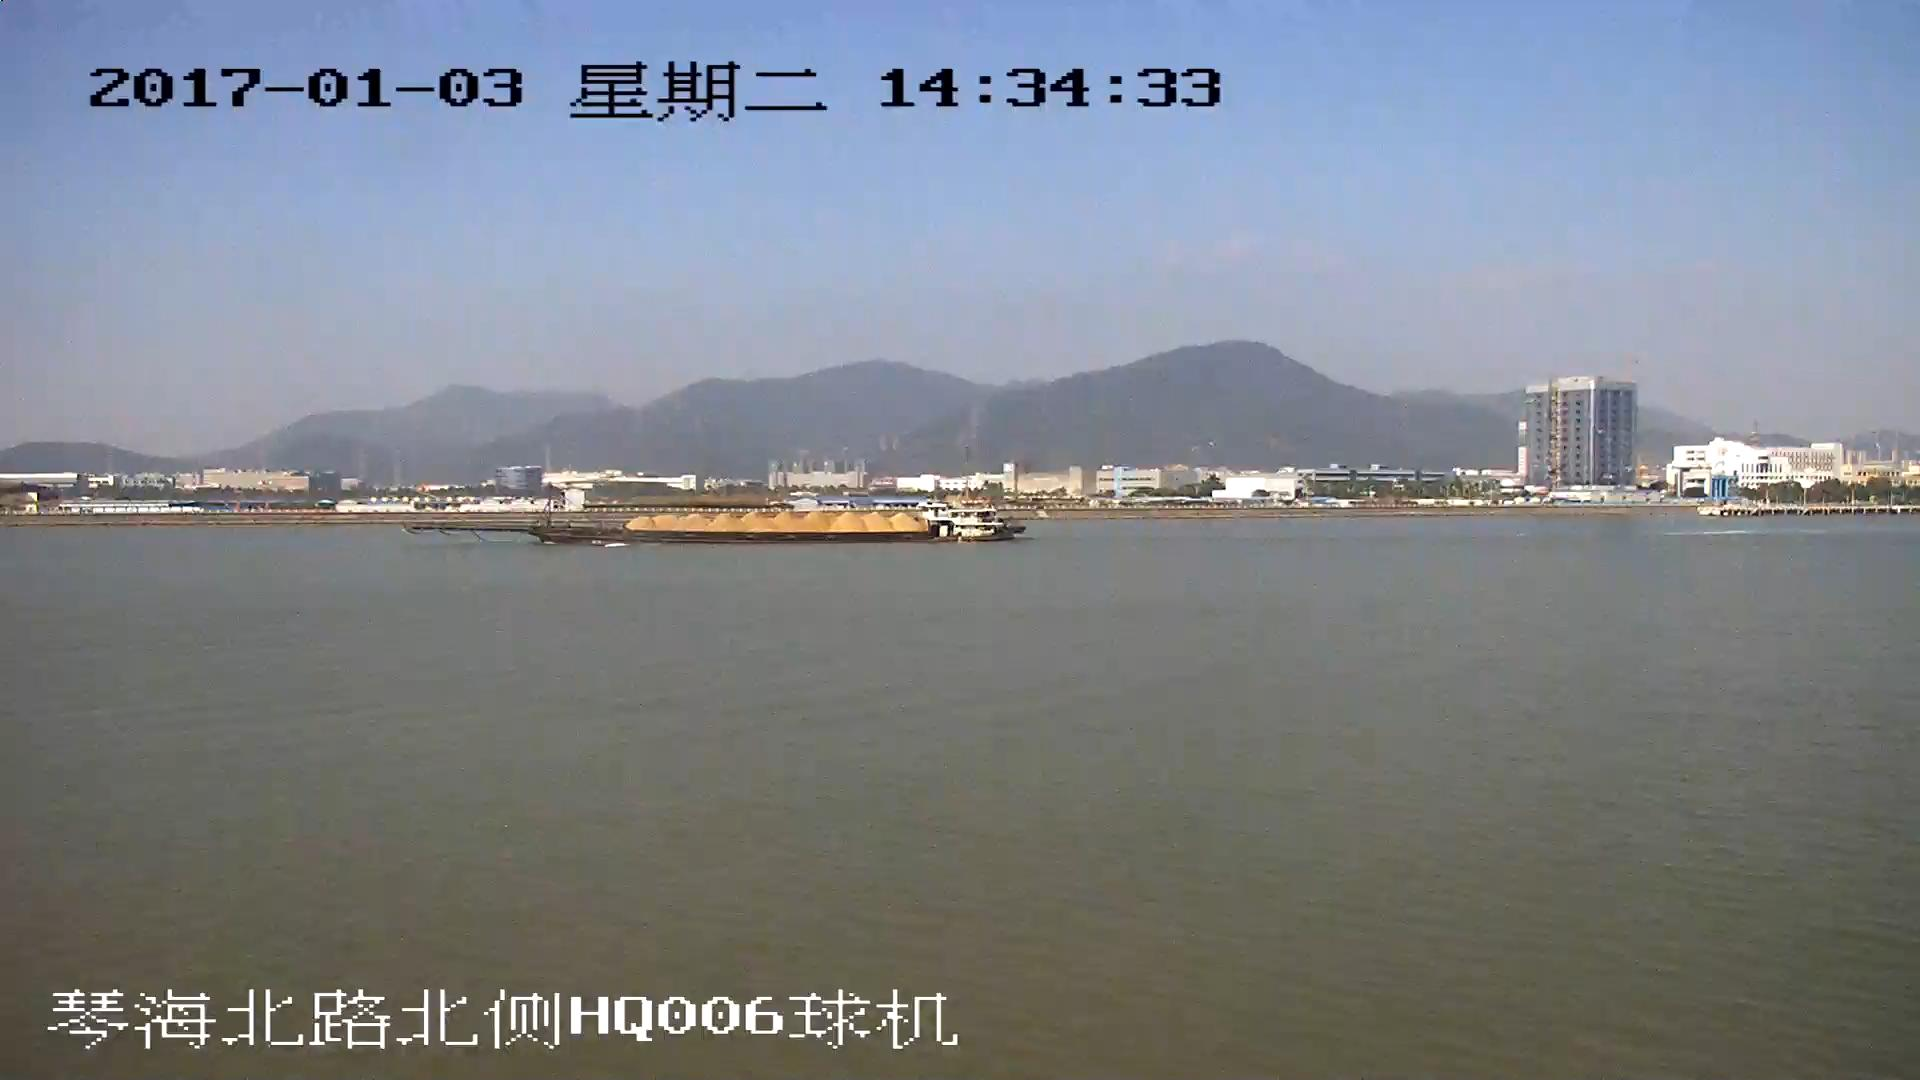ore carrier: (411, 498, 1023, 546)
